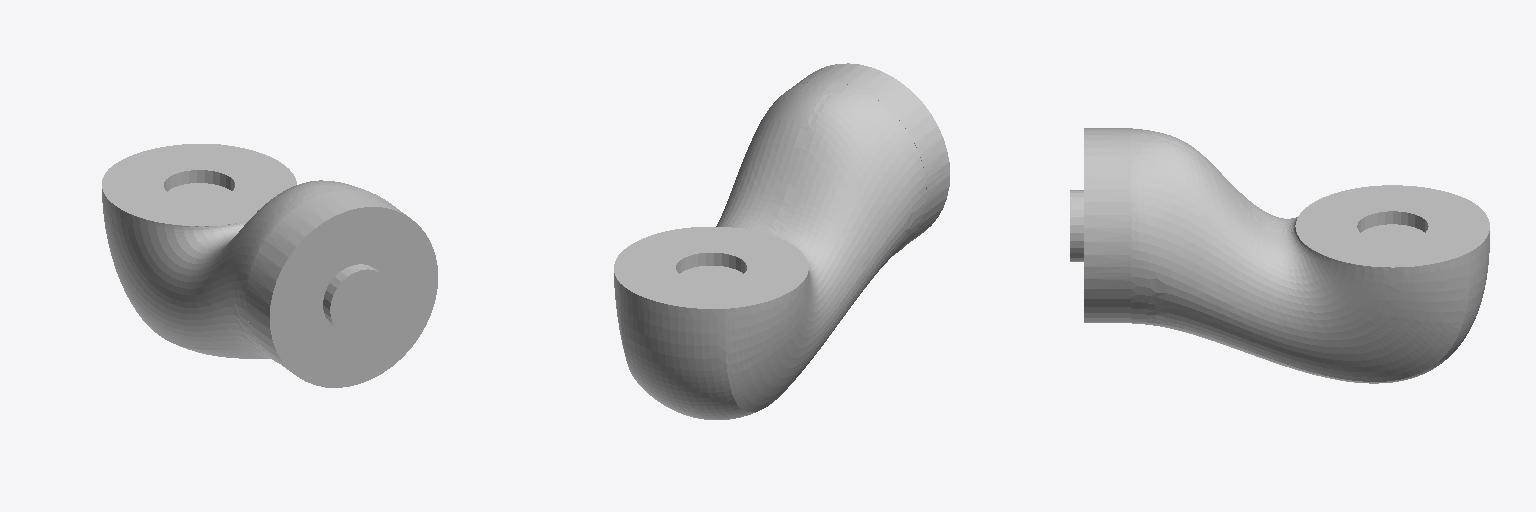
File: lbr_iiwa_14_r820_part_4.obj
The picture shows the model from 3 angles: view 1: azimuth 30°, elevation 25°; view 2: azimuth 150°, elevation 25°; view 3: azimuth 270°, elevation 25°; orthographic projection.
Parts seen in each view (by area): view 1: mesh 1 LBR IIWA 14 R820.sldasm-Part-4; view 2: mesh 1 LBR IIWA 14 R820.sldasm-Part-4; view 3: mesh 1 LBR IIWA 14 R820.sldasm-Part-4.
Boxes of the visible parts, <box> form: mesh 1 LBR IIWA 14 R820.sldasm-Part-4: <box>102,144,437,387</box>; mesh 1 LBR IIWA 14 R820.sldasm-Part-4: <box>614,63,949,419</box>; mesh 1 LBR IIWA 14 R820.sldasm-Part-4: <box>1070,128,1489,383</box>.
Bounding box in the file's own units: 0.136 × 0.1826 × 0.2935.